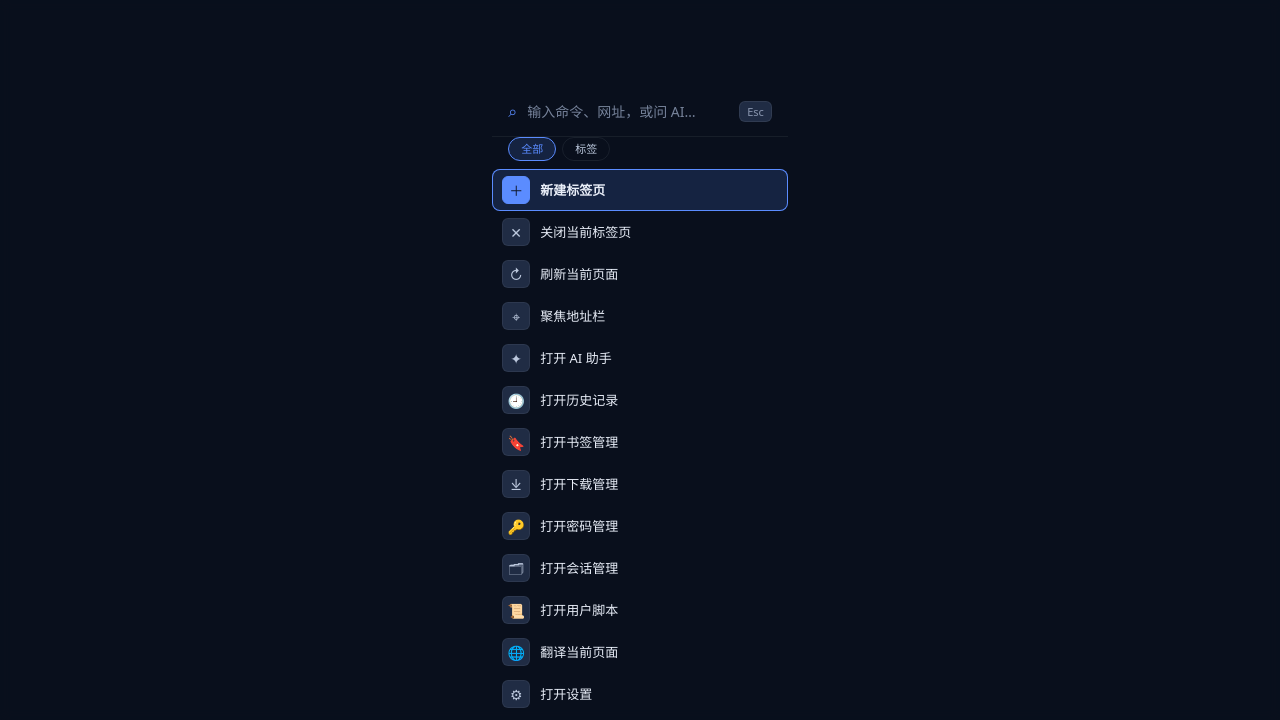
Test: CommandPalette：基础渲染与交互 › 输入中文搜索词后候选列表按标题过滤
# COMMANDS 里包含"关闭当前标签页"，搜索"关闭"应匹配
Type "关闭" into the dropdown with class "cp-input". click: (628, 111)
box: 527,101 -> 729,122
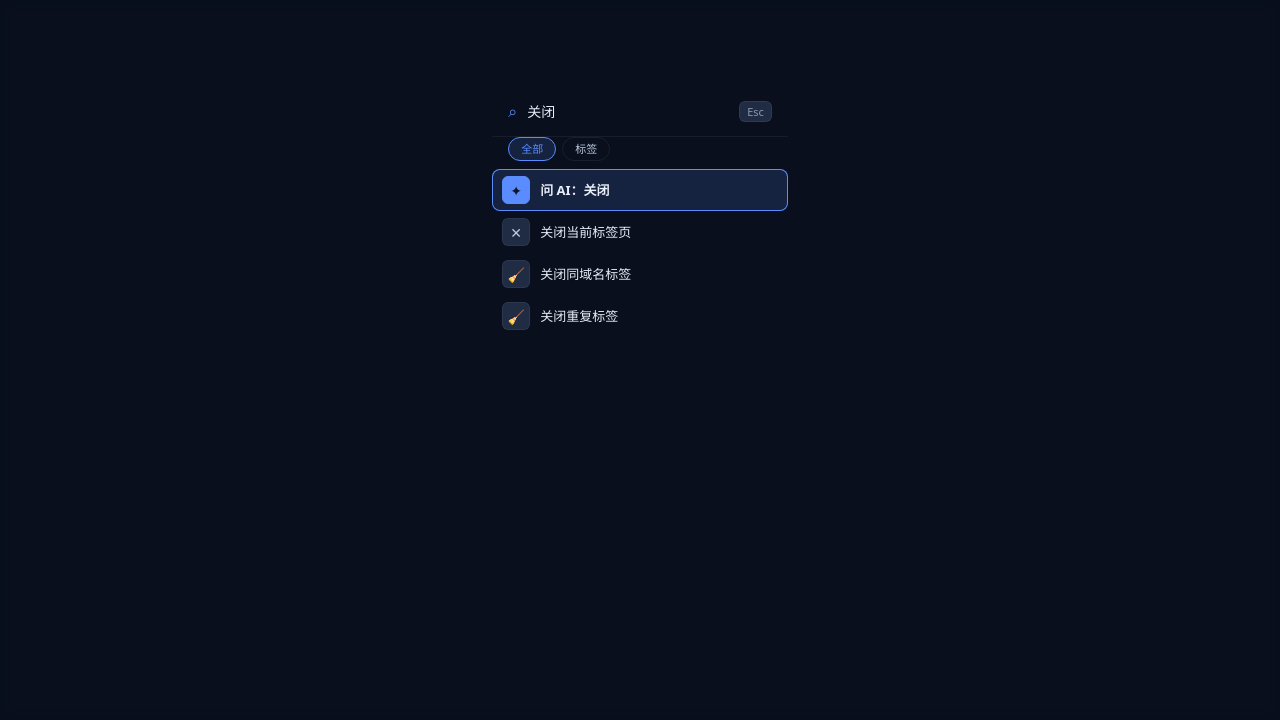
Now the option with class "cp-item" showing "✦ 问 AI：关闭" is shown, box 492,169 -> 788,211
Now the text with class "cp-title" shows "关闭", box 540,181 -> 610,199
